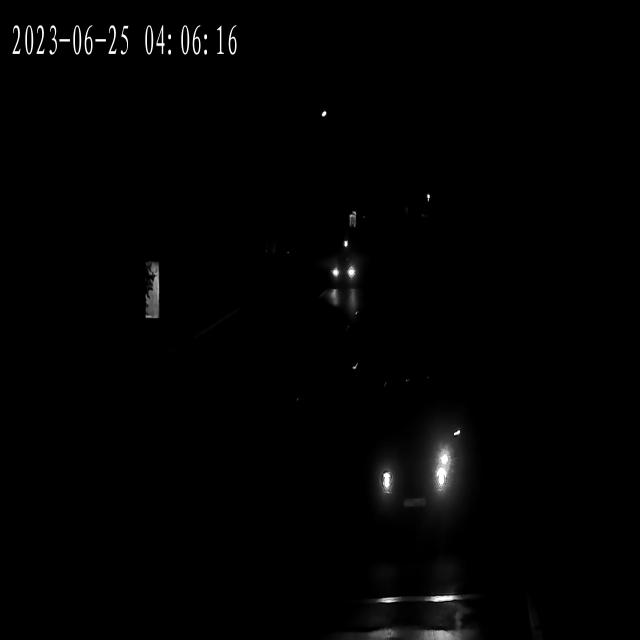Car: (360, 404, 462, 521), (326, 259, 361, 293)
